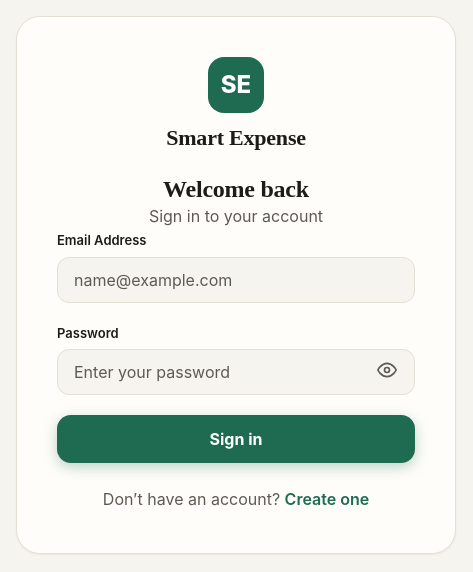
it: Login accessibility › the show-password toggle is a named, keyboard-reachable toggle button
The width and height of the screenshot is (473, 572).
Click the button named "Show password".
click(387, 372)  # box [371,359,403,385]
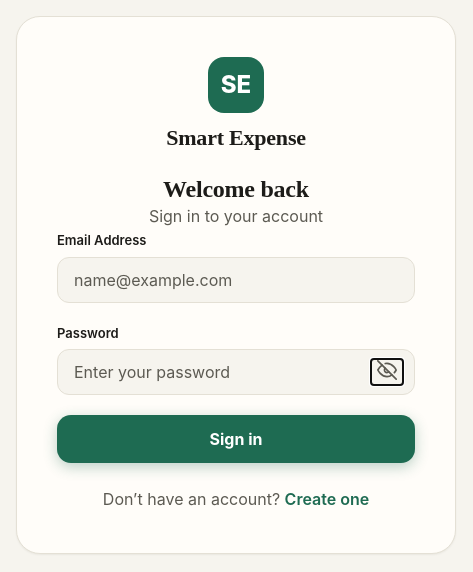
Now the button named "Show password" is pressed, box [371,359,403,385]
